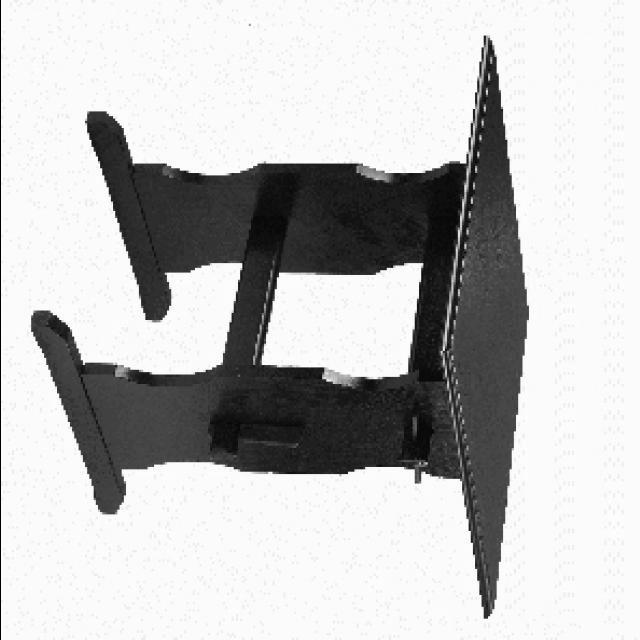table: (28, 34, 534, 624)
